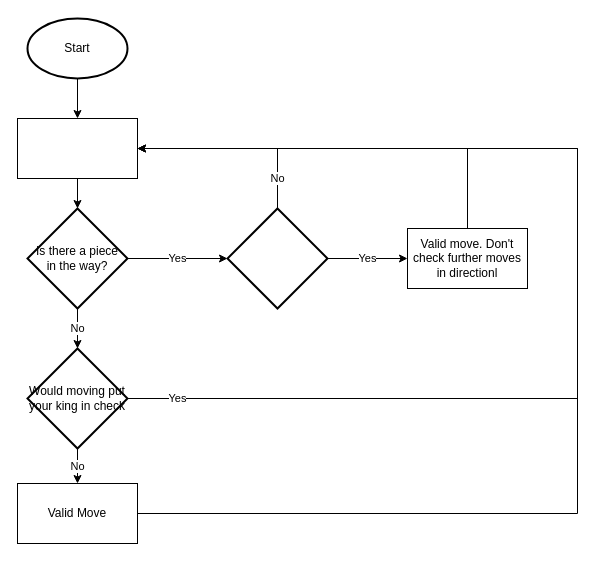
Image size: 603x561. Some labels were removed from this diagram. Each missing label, with the centre of its shape:
"Check moves in straight lines one by one" goes at pixel 77 148.
"Is the piece white?" goes at pixel 277 258.
